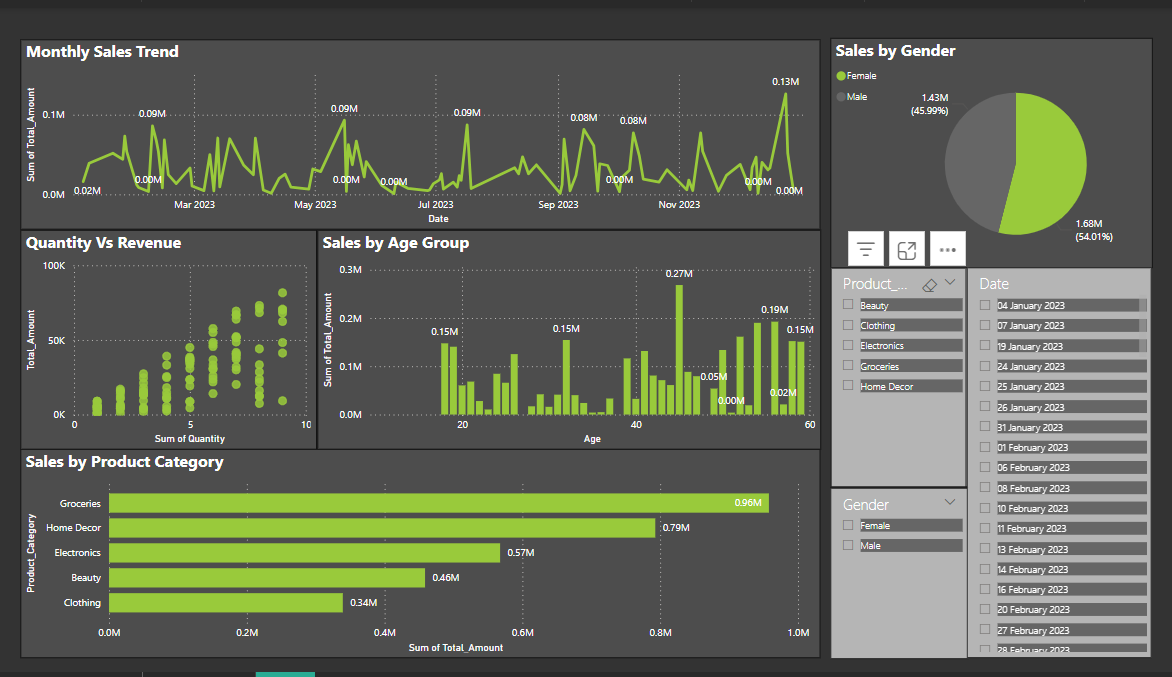

What the dashboard file says about the page in this screenshot:
{"tool":"powerbi","page":{"name":"Page 1","canvas":[1280,720],"ordinal":0},"visuals":[{"type":"lineChart","title":"Monthly Sales Trend","fields":{"Category":["Sheet1.Date"],"Y":["Sum(Sheet1.Total_Amount)"]},"box":[28.8,50,867.4,206],"z":0},{"type":"pieChart","title":"Sales by Gender","fields":{"Category":["Sheet1.Gender"],"Y":["Sum(Sheet1.Total_Amount)"]},"box":[905.2,32.1,349.6,249.5],"z":1000},{"type":"clusteredBarChart","title":"Sales by Product Category","fields":{"Category":["Sheet1.Product_Category"],"Y":["Sum(Sheet1.Total_Amount)"]},"box":[28.8,492.5,867.4,226.8],"z":2000},{"type":"clusteredColumnChart","title":"Sales by Age Group","fields":{"Category":["Sheet1.Age"],"Y":["Sum(Sheet1.Total_Amount)"]},"box":[350,256.2,546.1,238.1],"z":3000},{"type":"scatterChart","title":"Quantity Vs Revenue","fields":{"X":["Sum(Sheet1.Quantity)"],"Y":["Sheet1.Total_Amount"]},"box":[28.8,256.2,321.3,238.1],"z":4000},{"type":"slicer","fields":{"Values":["Sheet1.Product_Category"]},"box":[905.2,281.6,149.3,238.1],"z":5000},{"type":"slicer","fields":{"Values":["Sheet1.Gender"]},"box":[905.2,519.7,149.3,185.2],"z":6000},{"type":"slicer","fields":{"Values":["Sheet1.Date"]},"box":[1054.5,281.6,200.3,423.3],"z":7000},{"type":"textbox","box":[28.8,0,867.5,50],"z":7001}]}

Visuals, with their boxes in screenshot pixels (x1, y1, x2, y2), scaled from the page's 1280x720 canvas onto the 1172x677 screenshot:
"Monthly Sales Trend" lineChart: pyautogui.locateOnScreen(26, 47, 821, 241)
"Sales by Gender" pieChart: pyautogui.locateOnScreen(829, 30, 1149, 265)
"Sales by Product Category" clusteredBarChart: pyautogui.locateOnScreen(26, 463, 821, 676)
"Sales by Age Group" clusteredColumnChart: pyautogui.locateOnScreen(320, 241, 820, 465)
"Quantity Vs Revenue" scatterChart: pyautogui.locateOnScreen(26, 241, 321, 465)
slicer - Sheet1.Product_Category: pyautogui.locateOnScreen(829, 265, 966, 489)
slicer - Sheet1.Gender: pyautogui.locateOnScreen(829, 489, 966, 663)
slicer - Sheet1.Date: pyautogui.locateOnScreen(966, 265, 1149, 663)
textbox: pyautogui.locateOnScreen(26, 0, 821, 47)
